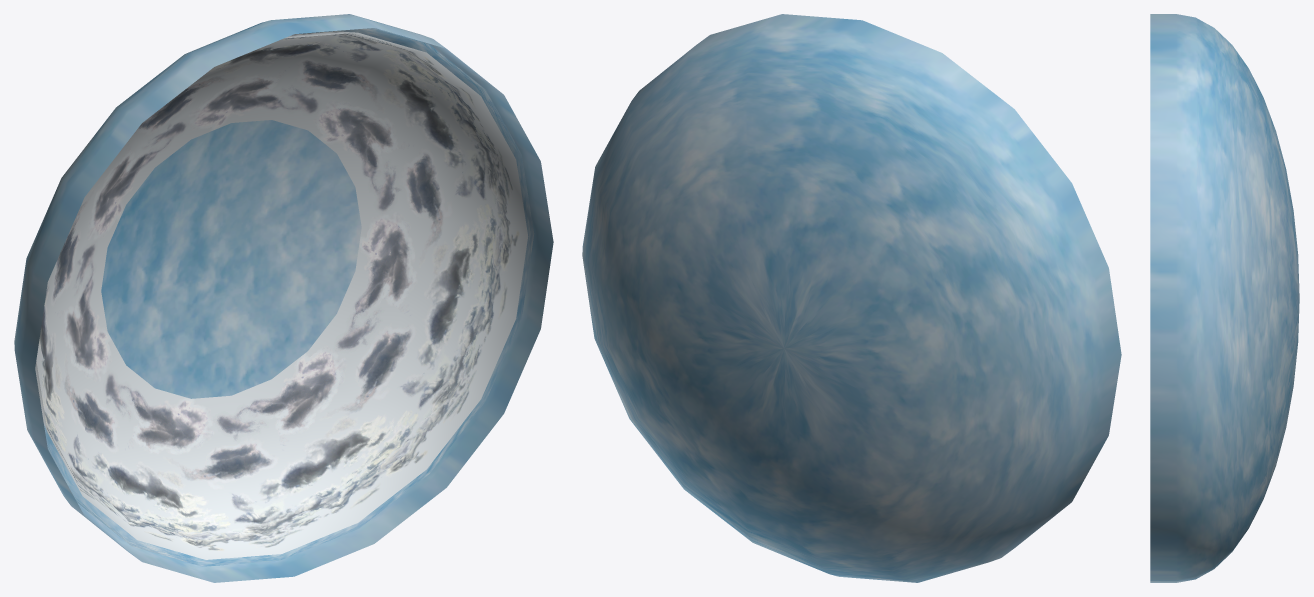
The model's file is SkyBox.fbx.
3 views of the same model, side by side, from view 1: azimuth 30°, elevation 25°; view 2: azimuth 150°, elevation 25°; view 3: azimuth 270°, elevation 25° (orthographic). The views are drawn at different scales.
Visible parts, largest first — view 1: cloud01_default, cloud02_default, skydome1_layer2; view 2: skydome1_layer2; view 3: skydome1_layer2.
Boxes of the visible parts, x1=… form: cloud01_default: x1=35, y1=31, x2=528, y2=559; cloud02_default: x1=43, y1=28, x2=534, y2=566; skydome1_layer2: x1=14, y1=14, x2=553, y2=582; skydome1_layer2: x1=582, y1=14, x2=1121, y2=582; skydome1_layer2: x1=1150, y1=14, x2=1299, y2=582.
Size of the model in its own units: 110000 by 110000 by 28659.
3 materials, 3 textured.
